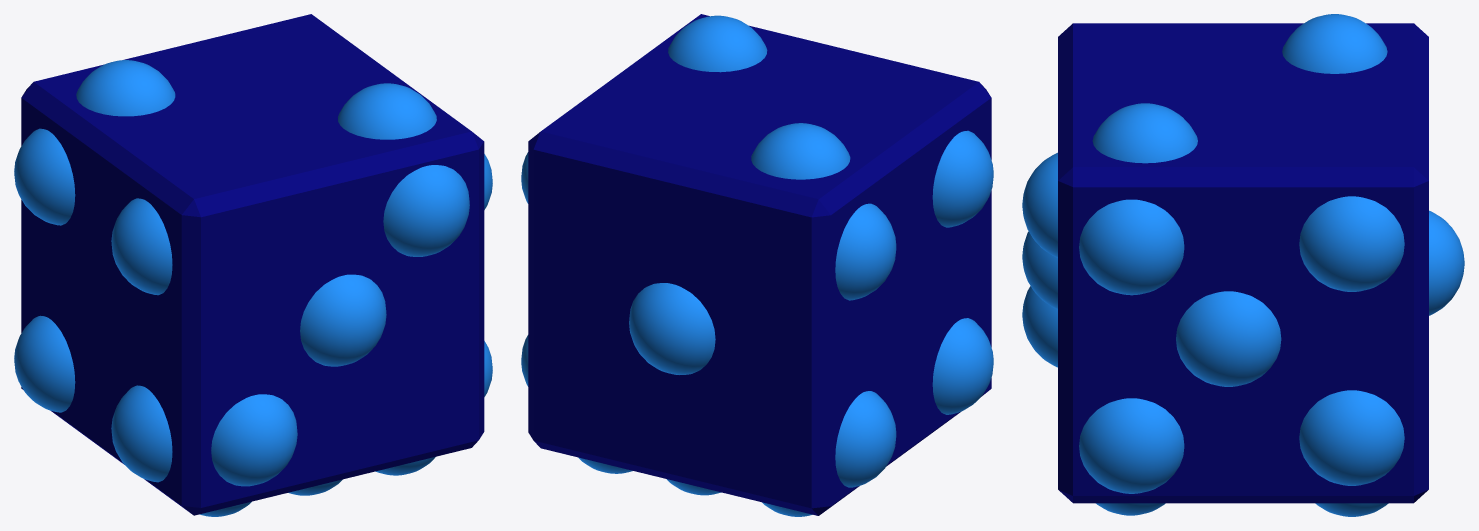
File: snakes&ladders.fbx
The picture shows the model from 3 angles, left to right: view 1: azimuth 30°, elevation 25°; view 2: azimuth 150°, elevation 25°; view 3: azimuth 270°, elevation 25°; orthographic projection. The views are drawn at different scales.
Parts seen in each view (by area): view 1: Cube, Sphere.005, Sphere.004, Sphere.003, Sphere.006, Sphere.008, Sphere.007, Sphere.009, Sphere.001, Sphere.002; view 2: Cube, Sphere, Sphere.007, Sphere.009, Sphere.006, Sphere.008, Sphere.002, Sphere.001; view 3: Cube, Sphere.011, Sphere.012, Sphere.014, Sphere.010, Sphere.013, Sphere.001, Sphere.002, Sphere, Sphere.003, Sphere.004, Sphere.005 (+2 smaller).
Part boxes in pixels (x1=…): Cube: x1=21, y1=14, x2=484, y2=515; Sphere.005: x1=300, y1=274, x2=386, y2=366; Sphere.004: x1=211, y1=394, x2=297, y2=486; Sphere.003: x1=383, y1=165, x2=469, y2=256; Sphere.006: x1=111, y1=198, x2=172, y2=295; Sphere.008: x1=111, y1=385, x2=172, y2=482; Sphere.007: x1=14, y1=128, x2=75, y2=225; Sphere.009: x1=14, y1=315, x2=75, y2=412; Sphere.001: x1=338, y1=83, x2=436, y2=139; Sphere.002: x1=76, y1=60, x2=175, y2=116; Cube: x1=528, y1=14, x2=991, y2=515; Sphere: x1=629, y1=283, x2=715, y2=374; Sphere.007: x1=835, y1=203, x2=896, y2=300; Sphere.009: x1=835, y1=391, x2=896, y2=487; Sphere.006: x1=932, y1=130, x2=993, y2=227; Sphere.008: x1=932, y1=318, x2=993, y2=414; Sphere.002: x1=751, y1=123, x2=850, y2=179; Sphere.001: x1=668, y1=15, x2=767, y2=72; Cube: x1=1058, y1=23, x2=1428, y2=503; Sphere.011: x1=1299, y1=196, x2=1404, y2=291; Sphere.012: x1=1079, y1=398, x2=1184, y2=493; Sphere.014: x1=1176, y1=291, x2=1281, y2=386; Sphere.010: x1=1079, y1=199, x2=1184, y2=295; Sphere.013: x1=1299, y1=390, x2=1404, y2=485; Sphere.001: x1=1092, y1=103, x2=1197, y2=163; Sphere.002: x1=1282, y1=14, x2=1387, y2=73; Sphere: x1=1429, y1=210, x2=1464, y2=315; Sphere.003: x1=1022, y1=152, x2=1057, y2=257; Sphere.004: x1=1022, y1=286, x2=1057, y2=367; Sphere.005: x1=1022, y1=231, x2=1057, y2=309.
Size of the model in its own units: 2.39 by 2.39 by 2.39.
